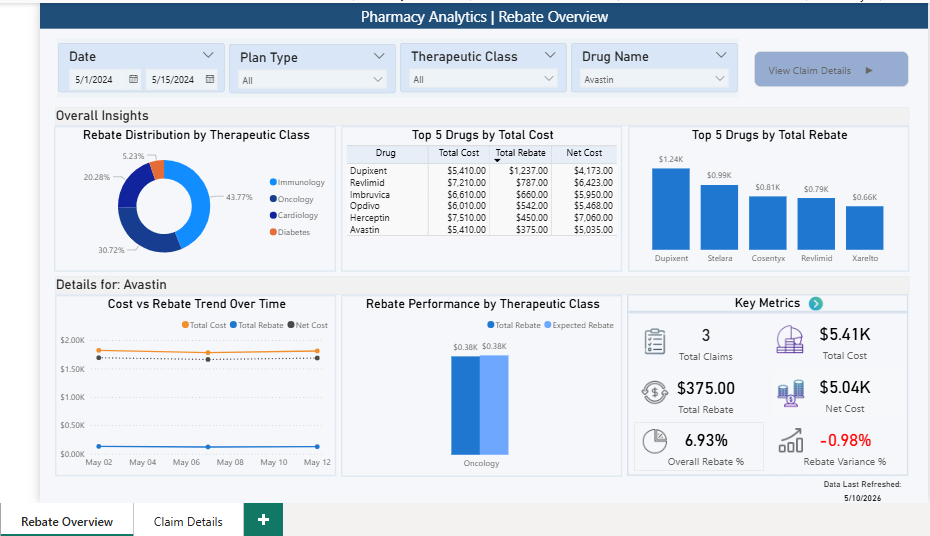

The page's visual inventory and layout, read from the dashboard file:
{"tool":"powerbi","page":{"name":"Rebate Overview","canvas":[1280,720],"ordinal":0},"visuals":[{"type":"shape","box":[0,0,1280.2,128.2],"z":0},{"type":"card","title":"Data Last Refreshed:","fields":{"Values":["Min(RefreshDate.RefreshDate)"]},"box":[996.5,645.1,256.3,72],"z":1000},{"type":"clusteredBarChart","title":"Top Rebate-Generating Drugs","fields":{"Category":["Drugs.Drug_Name"],"Y":["Measures Table.Total Rebate"]},"box":[599,144,385.9,570.2],"z":2000},{"type":"tableEx","title":"Top Drugs by Cost","fields":{"Values":["Drugs.Drug_Name","Claims.Total Cost","Claims.Total Rebate","Claims.Net Cost"]},"box":[18.7,457.9,568.8,256.3],"z":3000},{"type":"donutChart","title":"Rebate Distribution by Therapeutic Class","fields":{"Category":["Drugs.Therapeutic_Class"],"Y":["Measures Table.Total Rebate"]},"box":[18.7,144,568.8,303.8],"z":4000},{"type":"group","id":"g1","title":"Group 1","box":[996.5,144.8,256.3,83.5],"z":5000},{"type":"group","id":"g2","title":"Group 2","box":[995,227.1,257.9,86.4],"z":6000},{"type":"group","id":"g3","title":"Group 3","box":[996.5,310.6,256.3,86.4],"z":7000},{"type":"group","id":"g4","title":"Group 4","box":[996.5,395.4,256,86],"z":8000},{"type":"group","id":"g5","title":"Group 5","box":[996.5,479.1,256.3,86.4],"z":9000},{"type":"slicer","fields":{"Values":["Drugs.Drug_Name"]},"box":[1069.9,20.2,180,57.6],"z":10000},{"type":"slicer","fields":{"Values":["Drugs.Therapeutic_Class"]},"box":[915.8,21.6,162.7,59],"z":11000},{"type":"slicer","fields":{"Values":["Plans.Plan_Type"]},"box":[764.6,23,161.3,60.5],"z":12000},{"type":"slicer","title":"Date","fields":{"Values":["Claims.Date"]},"box":[535.7,23,233.3,60.5],"z":13000},{"type":"card","title":"Rebate Variance  %","fields":{"Values":["Measures List.Rebate Variance %"]},"box":[996.5,562.6,256,86],"z":13000,"group":"g14"},{"type":"image","box":[2.9,85,47.5,41.8],"z":14000},{"type":"card","title":"Overall Rebate %","fields":{"Values":["Measures List.Rebate %"]},"box":[996.5,479.1,256.3,86.4],"z":14000,"group":"g13"},{"type":"card","title":"Net Cost","fields":{"Values":["Claims.Net Cost"]},"box":[996.5,395.4,256,86],"z":15000,"group":"g12"},{"type":"group","id":"g6","title":"Group 6","box":[996.5,562.6,256,86],"z":15000},{"type":"group","id":"g7","title":"Group 13","box":[85,83.6,153,40.4],"z":16000},{"type":"card","title":"Total Rebate","fields":{"Values":["Claims.Total Rebate"]},"box":[996.5,310.6,256.3,86.4],"z":16000,"group":"g11"},{"type":"actionButton","box":[85,83.6,152.8,38.9],"z":17000,"group":"g7"},{"type":"group","id":"g8","title":"Group 14","box":[248.2,83.7,212.1,39],"z":17000},{"type":"card","title":"Total Cost","fields":{"Values":["Claims.Total Cost"]},"box":[996.6,227.1,256.3,86.4],"z":17000,"group":"g10"},{"type":"actionButton","box":[85,85,153,39],"z":18000,"group":"g7"},{"type":"actionButton","box":[248.2,83.7,212.1,39],"z":19000,"group":"g8"},{"type":"card","title":"Total Claims","fields":{"Values":["Claims.Total Claims"]},"box":[996.5,144.8,256.3,83.5],"z":19000,"group":"g9"},{"type":"actionButton","box":[248.2,85.1,212.1,36.1],"z":19500,"group":"g8"},{"type":"group","id":"g9","title":"Group 7","box":[996.5,144.8,256.3,83.5],"z":23001,"group":"g1"},{"type":"group","id":"g10","title":"Group 8","box":[995,227.1,257.9,86.4],"z":23001,"group":"g2"},{"type":"group","id":"g11","title":"Group 9","box":[996.5,310.6,256.3,86.4],"z":23001,"group":"g3"},{"type":"group","id":"g12","title":"Group 10","box":[996.5,395.4,256,86],"z":23001,"group":"g4"},{"type":"group","id":"g13","title":"Group 11","box":[996.5,479.1,256.3,86.4],"z":23001,"group":"g5"},{"type":"group","id":"g14","title":"Group 12","box":[996.5,562.6,256,86],"z":23001,"group":"g6"},{"type":"image","box":[995,250.1,61.9,56.2],"z":24000,"group":"g10"},{"type":"image","box":[1010.9,499.3,47.5,49],"z":25000,"group":"g13"},{"type":"image","box":[1010.9,326.4,46.1,53.3],"z":26000,"group":"g11"},{"type":"image","box":[1013.8,409.8,49,50.4],"z":27000,"group":"g12"},{"type":"image","box":[1012.3,162.9,47.5,51.5],"z":28000,"group":"g9"},{"type":"image","box":[1013.7,582.2,54.7,41.8],"z":29000,"group":"g14"}]}

Visuals, with their boxes on the page's 1280x720 design canvas (x1, y1, x2, y2). These are canvas units, not pixel positions in the 930x536 screenshot, which may show the page scaled, cropped or inside an application window:
shape: region(0, 0, 1280, 128)
"Data Last Refreshed:" card: region(996, 645, 1253, 717)
"Top Rebate-Generating Drugs" clusteredBarChart: region(599, 144, 985, 714)
"Top Drugs by Cost" tableEx: region(19, 458, 588, 714)
"Rebate Distribution by Therapeutic Class" donutChart: region(19, 144, 588, 448)
"Group 1" group: region(996, 145, 1253, 228)
"Group 2" group: region(995, 227, 1253, 314)
"Group 3" group: region(996, 311, 1253, 397)
"Group 4" group: region(996, 395, 1252, 481)
"Group 5" group: region(996, 479, 1253, 566)
slicer - Drugs.Drug_Name: region(1070, 20, 1250, 78)
slicer - Drugs.Therapeutic_Class: region(916, 22, 1078, 81)
slicer - Plans.Plan_Type: region(765, 23, 926, 84)
"Date" slicer: region(536, 23, 769, 84)
"Rebate Variance  %" card: region(996, 563, 1252, 649)
image: region(3, 85, 50, 127)
"Overall Rebate %" card: region(996, 479, 1253, 566)
"Net Cost" card: region(996, 395, 1252, 481)
"Group 6" group: region(996, 563, 1252, 649)
"Group 13" group: region(85, 84, 238, 124)
"Total Rebate" card: region(996, 311, 1253, 397)
actionButton: region(85, 84, 238, 122)
"Group 14" group: region(248, 84, 460, 123)
"Total Cost" card: region(997, 227, 1253, 314)
actionButton: region(85, 85, 238, 124)
actionButton: region(248, 84, 460, 123)
"Total Claims" card: region(996, 145, 1253, 228)
actionButton: region(248, 85, 460, 121)
"Group 7" group: region(996, 145, 1253, 228)
"Group 8" group: region(995, 227, 1253, 314)
"Group 9" group: region(996, 311, 1253, 397)
"Group 10" group: region(996, 395, 1252, 481)
"Group 11" group: region(996, 479, 1253, 566)
"Group 12" group: region(996, 563, 1252, 649)
image: region(995, 250, 1057, 306)
image: region(1011, 499, 1058, 548)
image: region(1011, 326, 1057, 380)
image: region(1014, 410, 1063, 460)
image: region(1012, 163, 1060, 214)
image: region(1014, 582, 1068, 624)
